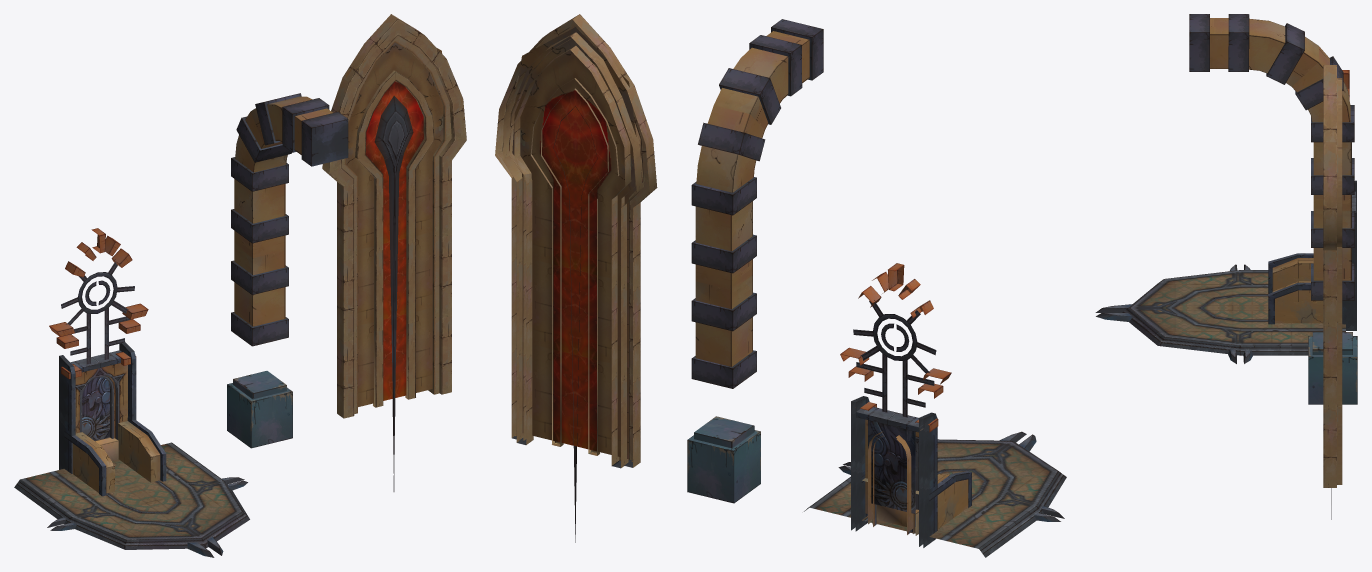
Rendered from 2_DG_DiGongPeiJian_02.FBX.
3 renders of one model, left to right at view 1: azimuth 30°, elevation 25°; view 2: azimuth 150°, elevation 25°; view 3: azimuth 270°, elevation 25°, orthographic. The views are drawn at different scales.
Visible parts, largest first — view 1: 2_DG_DiGongPeiJian_02_01, 2_DG_DiGongPeiJian_02_02, 2_DG_DiGongPeiJian_02_07, 2_DG_DiGongPeiJian_02_05, 2_DG_DiGongPeiJian_02_04, 2_DG_DiGongPeiJian_02_03, 2_DG_DiGongPeiJian_02_06; view 2: 2_DG_DiGongPeiJian_02_01, 2_DG_DiGongPeiJian_02_02, 2_DG_DiGongPeiJian_02_07, 2_DG_DiGongPeiJian_02_05, 2_DG_DiGongPeiJian_02_03, 2_DG_DiGongPeiJian_02_04, 2_DG_DiGongPeiJian_02_06; view 3: 2_DG_DiGongPeiJian_02_02, 2_DG_DiGongPeiJian_02_07, 2_DG_DiGongPeiJian_02_01, 2_DG_DiGongPeiJian_02_06, 2_DG_DiGongPeiJian_02_03, 2_DG_DiGongPeiJian_02_05.
Part boxes in pixels (x1,y1,x2,y2): 2_DG_DiGongPeiJian_02_01: (322, 14, 466, 491); 2_DG_DiGongPeiJian_02_02: (231, 93, 348, 346); 2_DG_DiGongPeiJian_02_07: (14, 442, 249, 557); 2_DG_DiGongPeiJian_02_05: (59, 342, 136, 473); 2_DG_DiGongPeiJian_02_04: (49, 228, 148, 379); 2_DG_DiGongPeiJian_02_03: (227, 371, 292, 448); 2_DG_DiGongPeiJian_02_06: (64, 418, 166, 496); 2_DG_DiGongPeiJian_02_01: (495, 14, 657, 542); 2_DG_DiGongPeiJian_02_02: (691, 19, 823, 388); 2_DG_DiGongPeiJian_02_07: (804, 431, 1066, 557); 2_DG_DiGongPeiJian_02_05: (851, 396, 937, 547); 2_DG_DiGongPeiJian_02_03: (687, 416, 760, 503); 2_DG_DiGongPeiJian_02_04: (840, 263, 951, 432); 2_DG_DiGongPeiJian_02_06: (861, 471, 971, 533); 2_DG_DiGongPeiJian_02_02: (1189, 14, 1354, 300); 2_DG_DiGongPeiJian_02_07: (1095, 264, 1345, 363); 2_DG_DiGongPeiJian_02_01: (1322, 65, 1342, 519); 2_DG_DiGongPeiJian_02_06: (1268, 253, 1323, 324); 2_DG_DiGongPeiJian_02_03: (1308, 332, 1357, 404); 2_DG_DiGongPeiJian_02_05: (1342, 180, 1356, 330).
Size of the model in its own units: 2018 by 2020 by 973.
Materials: 1 (1 with a texture image).
